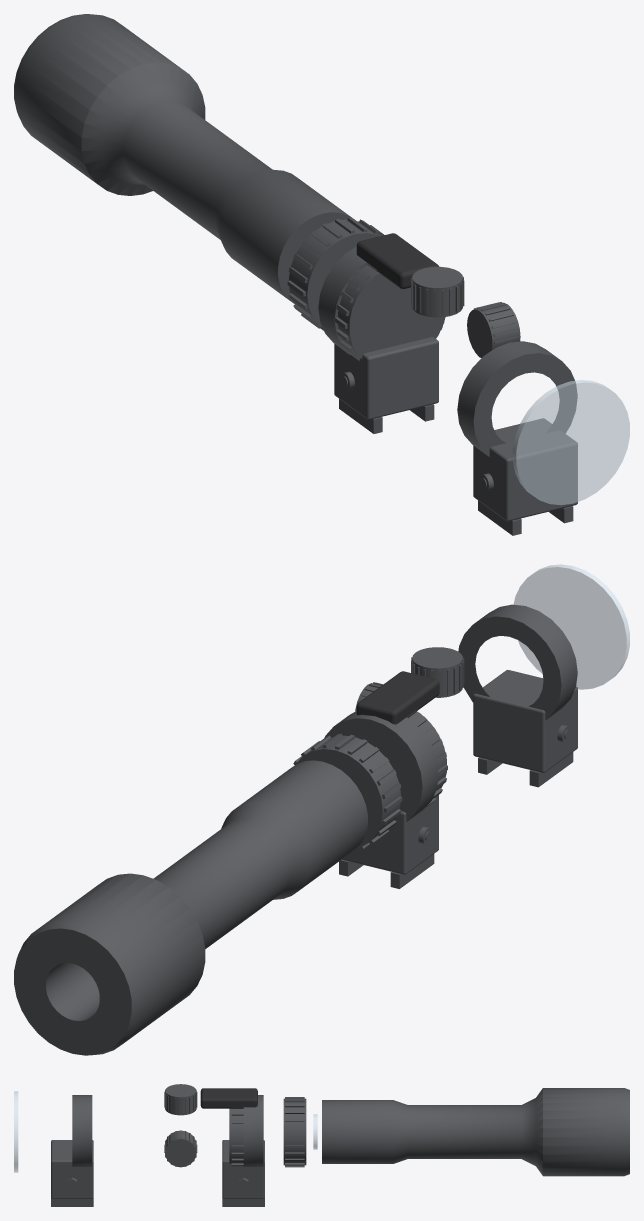
File: arctic-station-fps-kit-magnified-scope-eda61de4__28510.glb
3 renders of one model, top to bottom at view 1: azimuth 30°, elevation 25°; view 2: azimuth 150°, elevation 25°; view 3: azimuth 270°, elevation 25°, orthographic. The views are drawn at different scales.
Parts seen in each view (by area): view 1: magnified-scope; view 2: magnified-scope; view 3: magnified-scope.
Part boxes in pixels (<box>): magnified-scope: <box>14,14,629,535</box>; magnified-scope: <box>14,564,629,1055</box>; magnified-scope: <box>14,1084,629,1206</box>.
Bounding box in the file's own units: 0.0658 × 0.0829 × 0.432.
